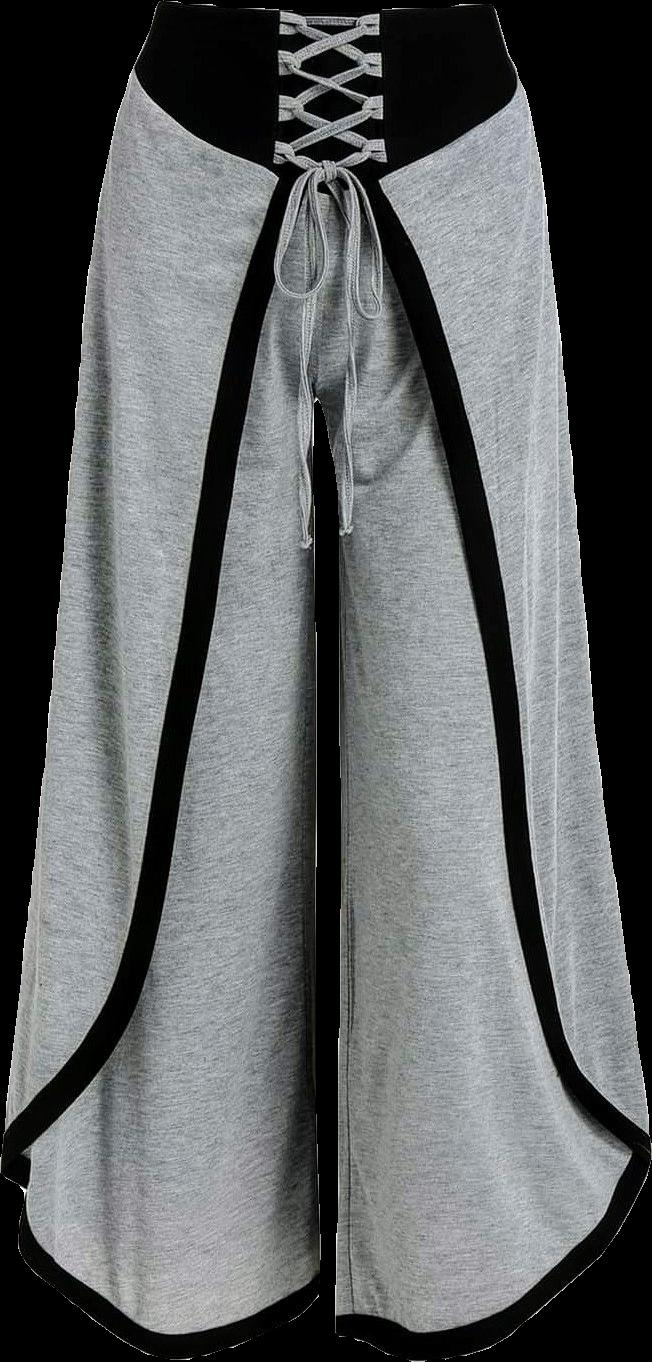Hemline: (4, 182, 310, 1174), (345, 187, 651, 1160), (332, 1150, 651, 1361), (9, 1168, 324, 1360)
Pantleg: (318, 1, 650, 1358), (1, 0, 325, 1357)
Waistline: (120, 68, 526, 192), (150, 0, 487, 22)
